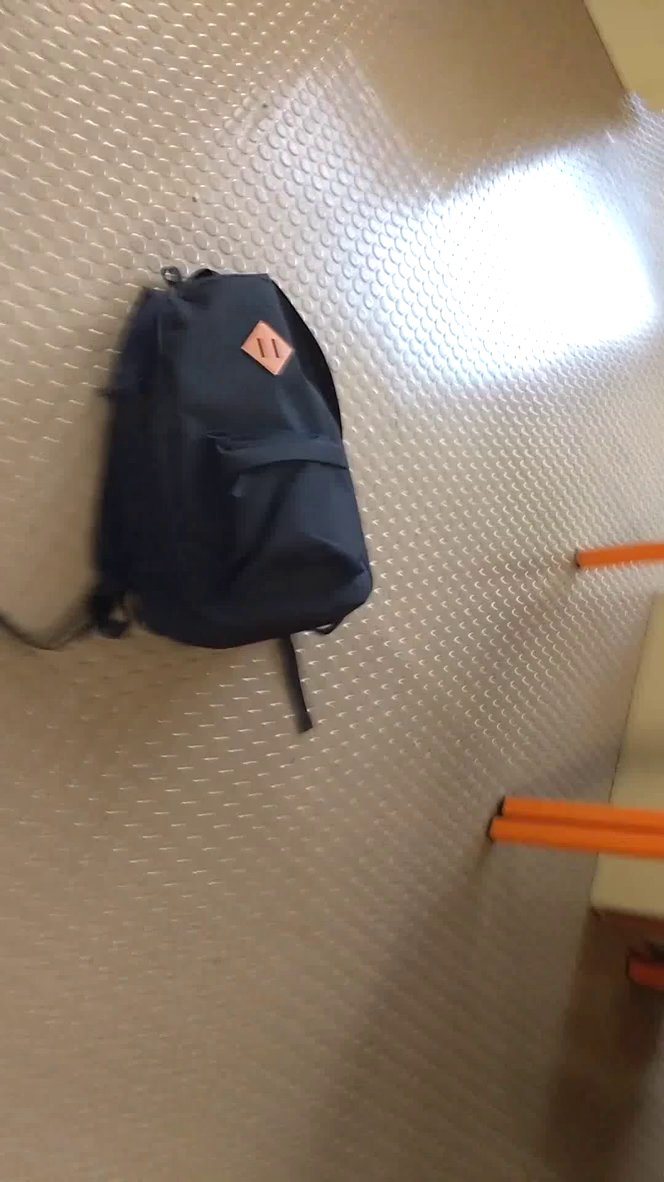bag: (2, 244, 390, 744)
